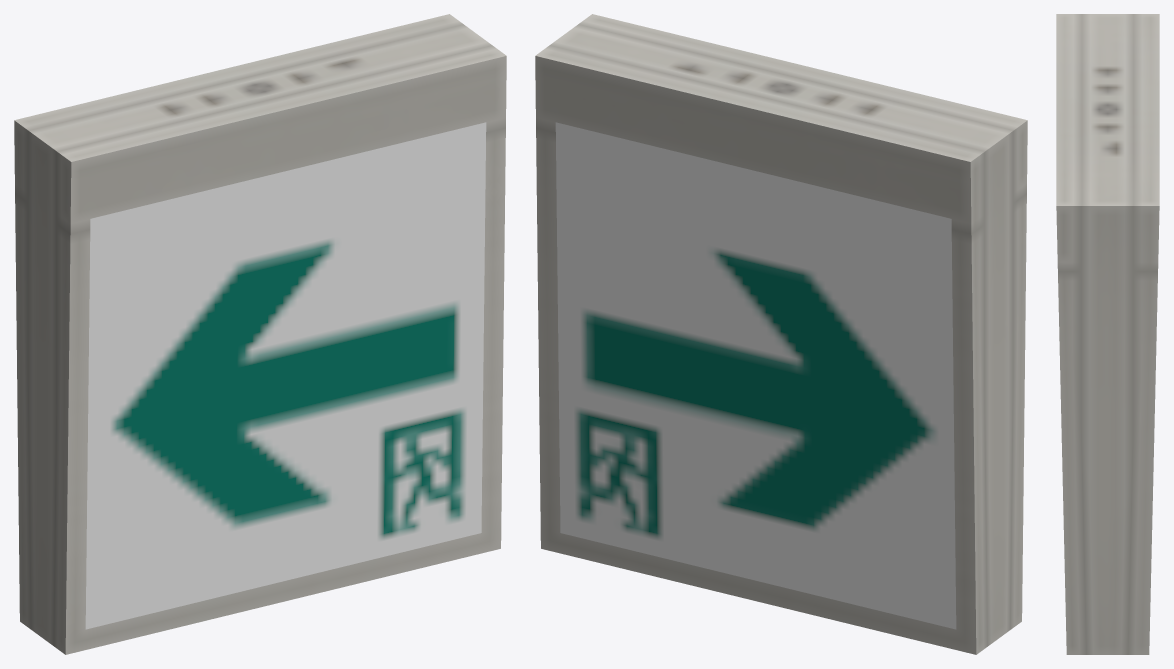
File: SHW_Exitlight_mini_01_14.fbx
The picture shows the model from 3 angles, left to right: view 1: azimuth 30°, elevation 25°; view 2: azimuth 150°, elevation 25°; view 3: azimuth 270°, elevation 25°; orthographic projection. The views are drawn at different scales.
Parts seen in each view (by area): view 1: shw_exitlight_mini_01_14; view 2: shw_exitlight_mini_01_14; view 3: shw_exitlight_mini_01_14.
Boxes of the visible parts, left/top/right/bottom form: shw_exitlight_mini_01_14: left=14, top=14, right=506, bottom=654; shw_exitlight_mini_01_14: left=535, top=14, right=1027, bottom=654; shw_exitlight_mini_01_14: left=1056, top=14, right=1159, bottom=654.
Size of the model in its own units: 22 by 24 by 5.
